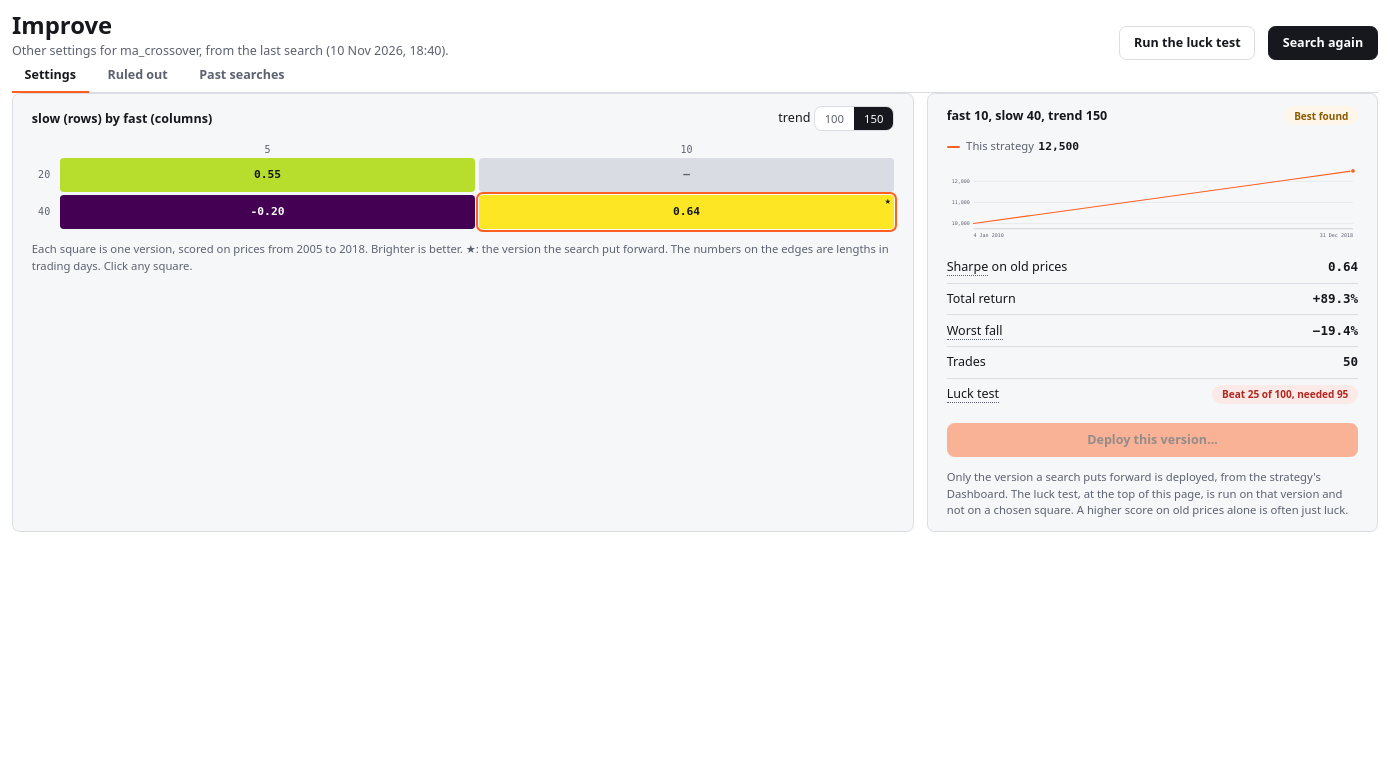
Scenario: Improve › shows the pressed version's own figures, and says the luck test was not run on it
Step 1. Click the button named "fast 5, slow 20, trend 150, score 0.55" → (268, 175), box [60, 158, 476, 192]
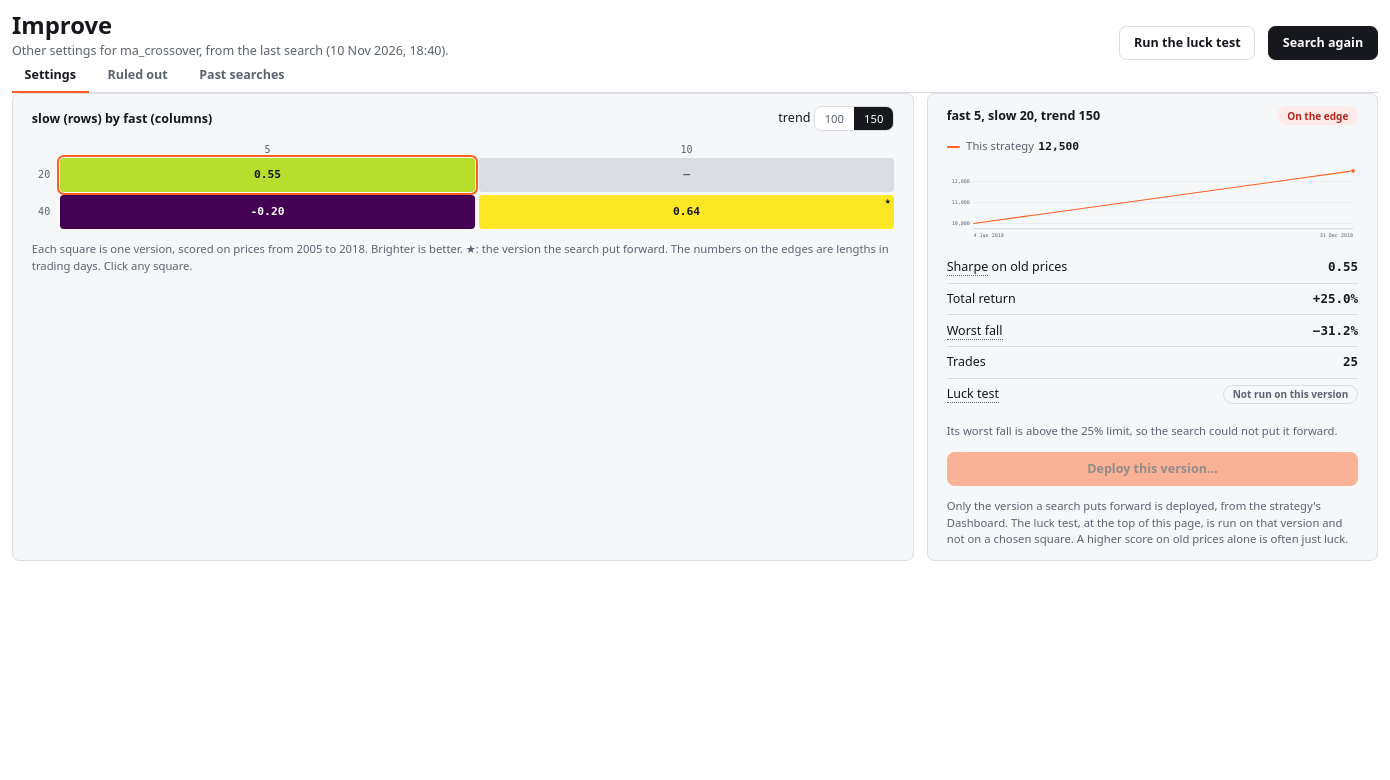
Result: the heading "fast 5, slow 20, trend 150" is shown at [947, 107, 1100, 125]
Result: the text "On the edge" is shown at [1277, 106, 1358, 126]
Result: the text "Not run on this version" is shown at [1223, 385, 1358, 404]
